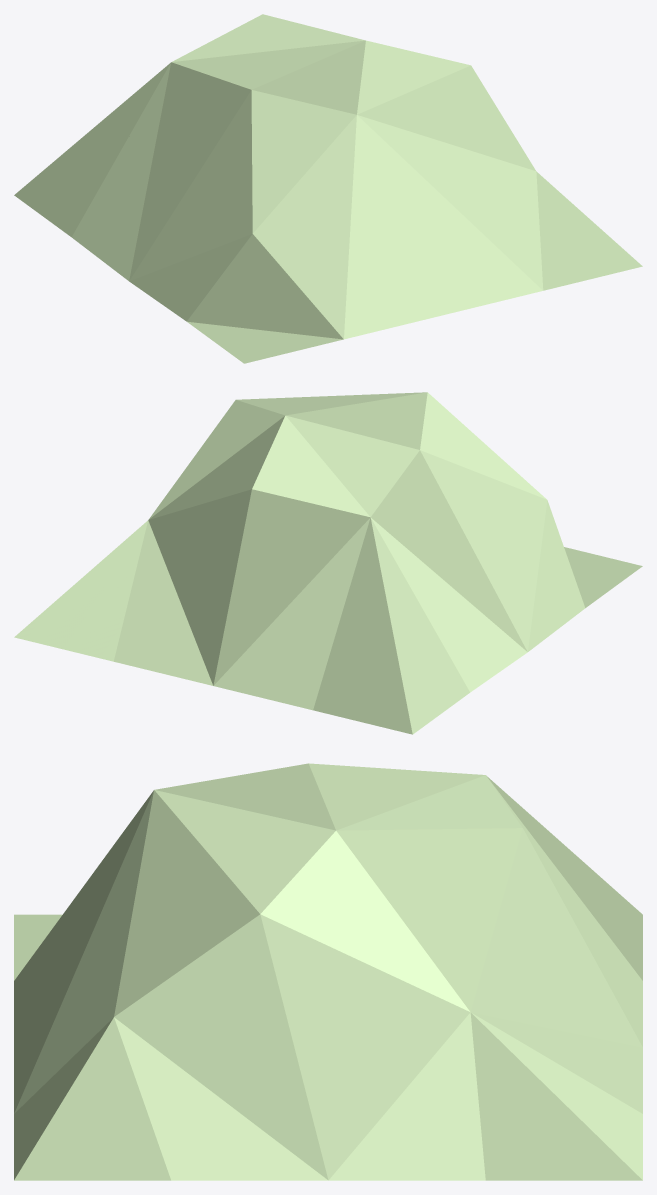
File: Mountain.fbx
3 renders of one model, top to bottom at view 1: azimuth 30°, elevation 25°; view 2: azimuth 150°, elevation 25°; view 3: azimuth 270°, elevation 25°, orthographic. The views are drawn at different scales.
Parts seen in each view (by area): view 1: Mountain; view 2: Mountain; view 3: Mountain.
Boxes of the visible parts, left/top/right/bottom form: Mountain: left=14, top=14, right=642, bottom=363; Mountain: left=14, top=392, right=642, bottom=734; Mountain: left=14, top=763, right=642, bottom=1180.
Size of the model in its own units: 50 by 21.62 by 50.
